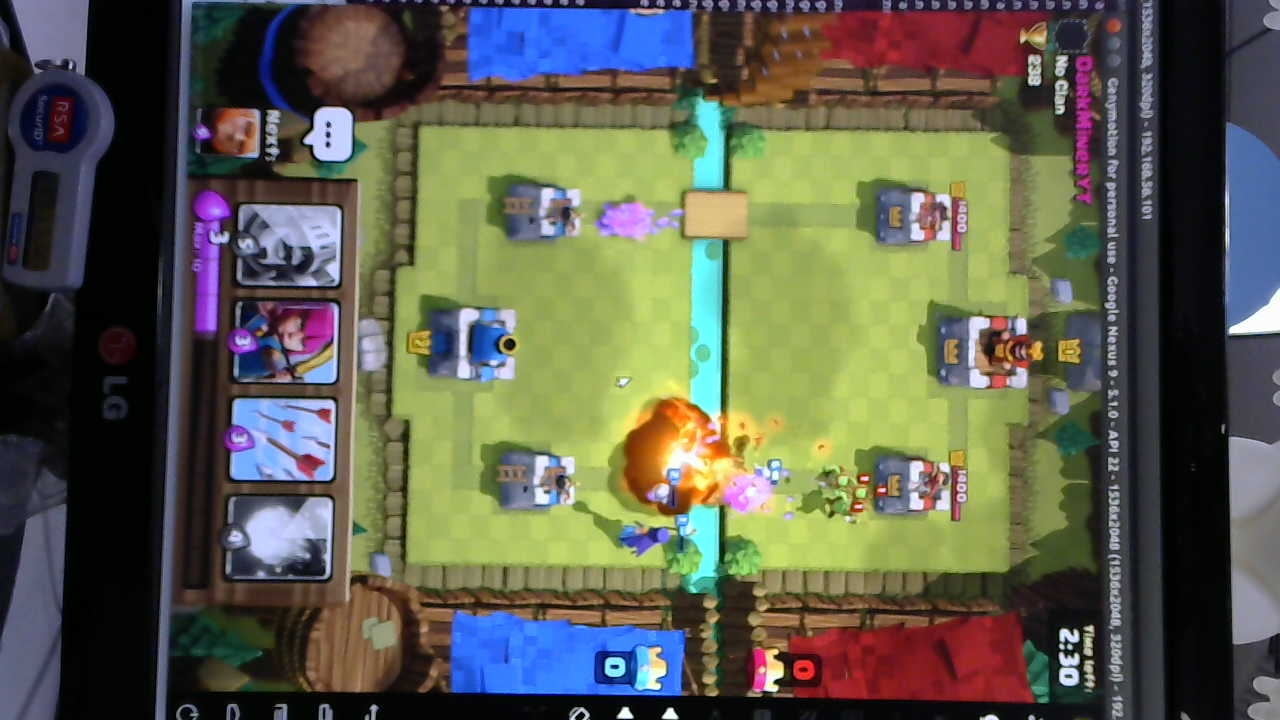arena: (496, 178, 583, 245), (495, 449, 578, 512)
earena: (867, 449, 955, 516), (872, 188, 956, 248)
eking: (936, 312, 1044, 392)
king: (426, 305, 521, 384)
musketeer: (638, 482, 668, 508)
speargoblins: (813, 460, 883, 523)
witch: (613, 516, 676, 556)
